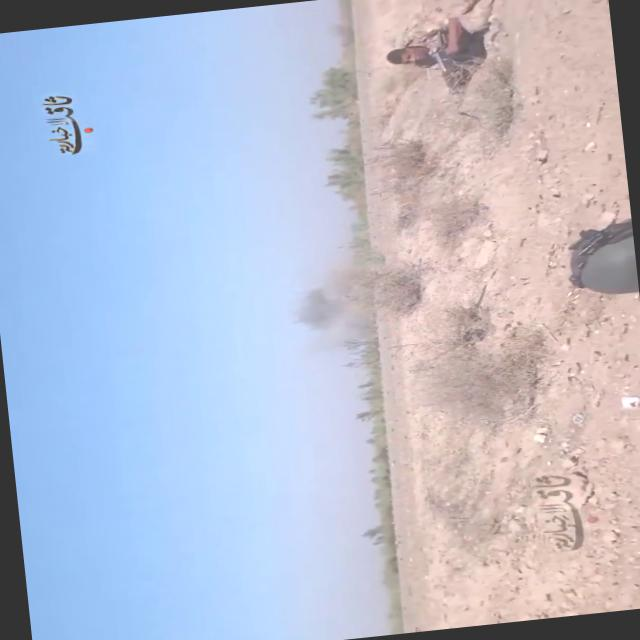long weapon: (426, 29, 462, 88)
